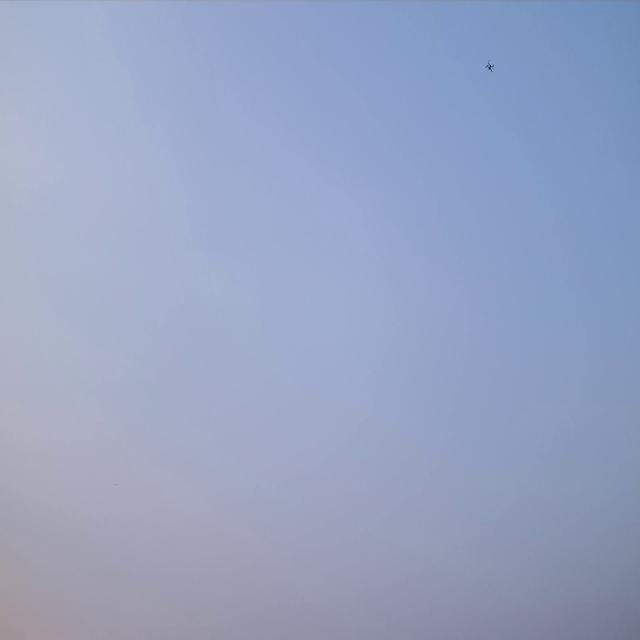UAV: (485, 59, 496, 73)
